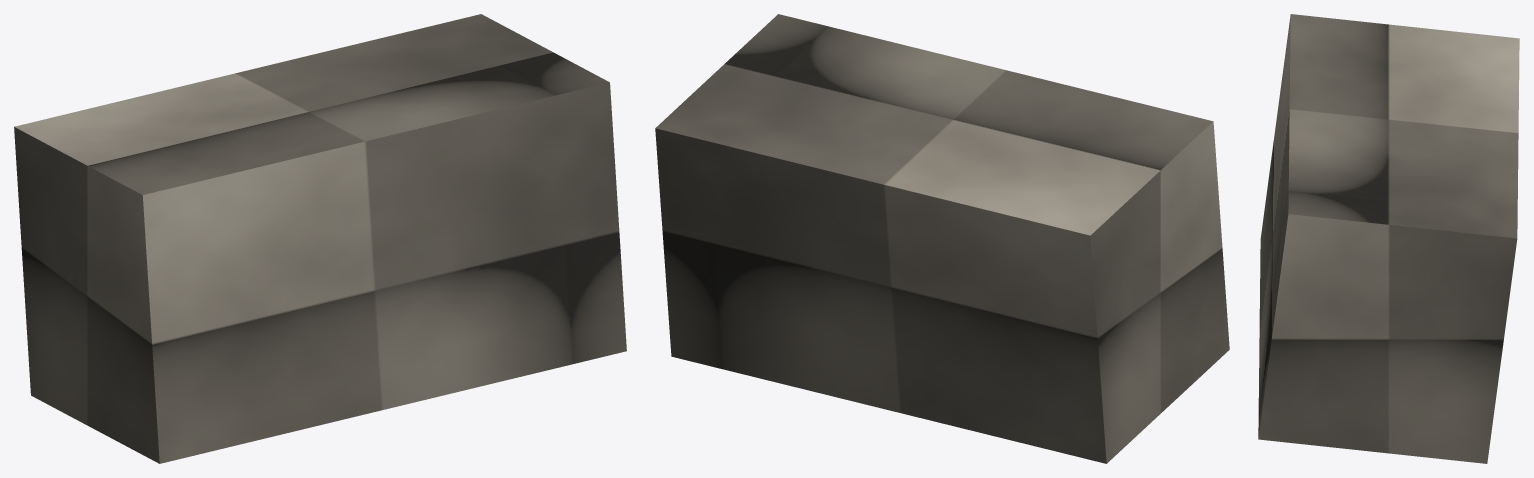
File: Prop_Brick2_LOD2.gltf
The picture shows the model from 3 angles, left to right: view 1: azimuth 30°, elevation 25°; view 2: azimuth 150°, elevation 25°; view 3: azimuth 270°, elevation 25°; orthographic projection. The views are drawn at different scales.
Parts seen in each view (by area): view 1: Prop_Brick2_LOD2; view 2: Prop_Brick2_LOD2; view 3: Prop_Brick2_LOD2.
Boxes of the visible parts, bbox=[...] form: Prop_Brick2_LOD2: bbox=[14, 14, 626, 463]; Prop_Brick2_LOD2: bbox=[655, 14, 1229, 463]; Prop_Brick2_LOD2: bbox=[1258, 14, 1519, 463].
Size of the model in its own units: 0.4 by 0.2317 by 0.22.
Materials: 1 (1 with a texture image).
